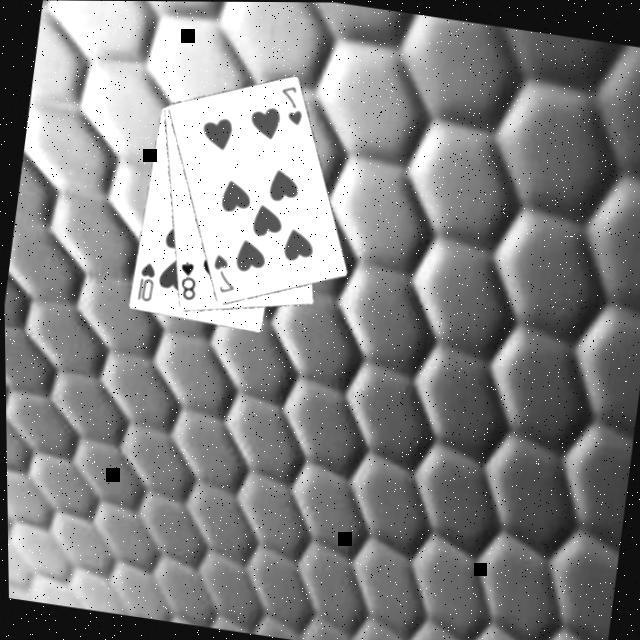10H: (130, 260, 157, 306)
7H: (202, 250, 240, 298), (270, 82, 307, 130)
8S: (170, 258, 200, 305)
